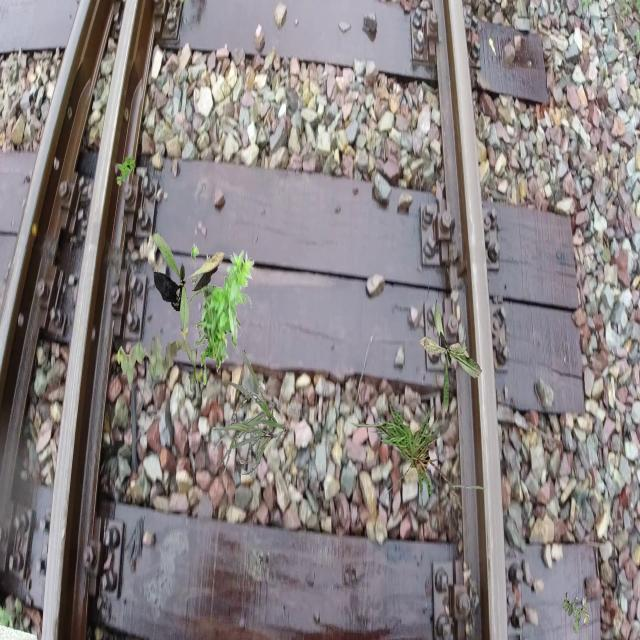Plant: (342, 401, 486, 520), (190, 242, 255, 386), (214, 350, 287, 474), (419, 300, 483, 412), (153, 233, 224, 332), (116, 324, 202, 392), (562, 593, 590, 634), (116, 154, 136, 186)
